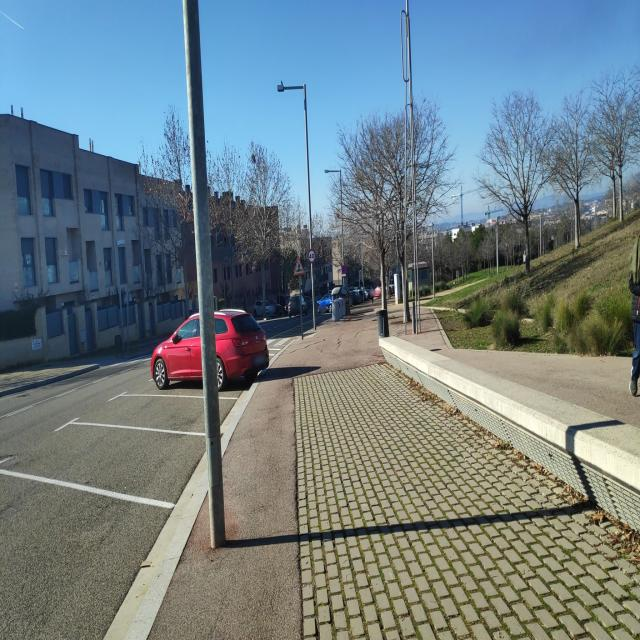forb_stopping: (341, 265, 346, 274)
